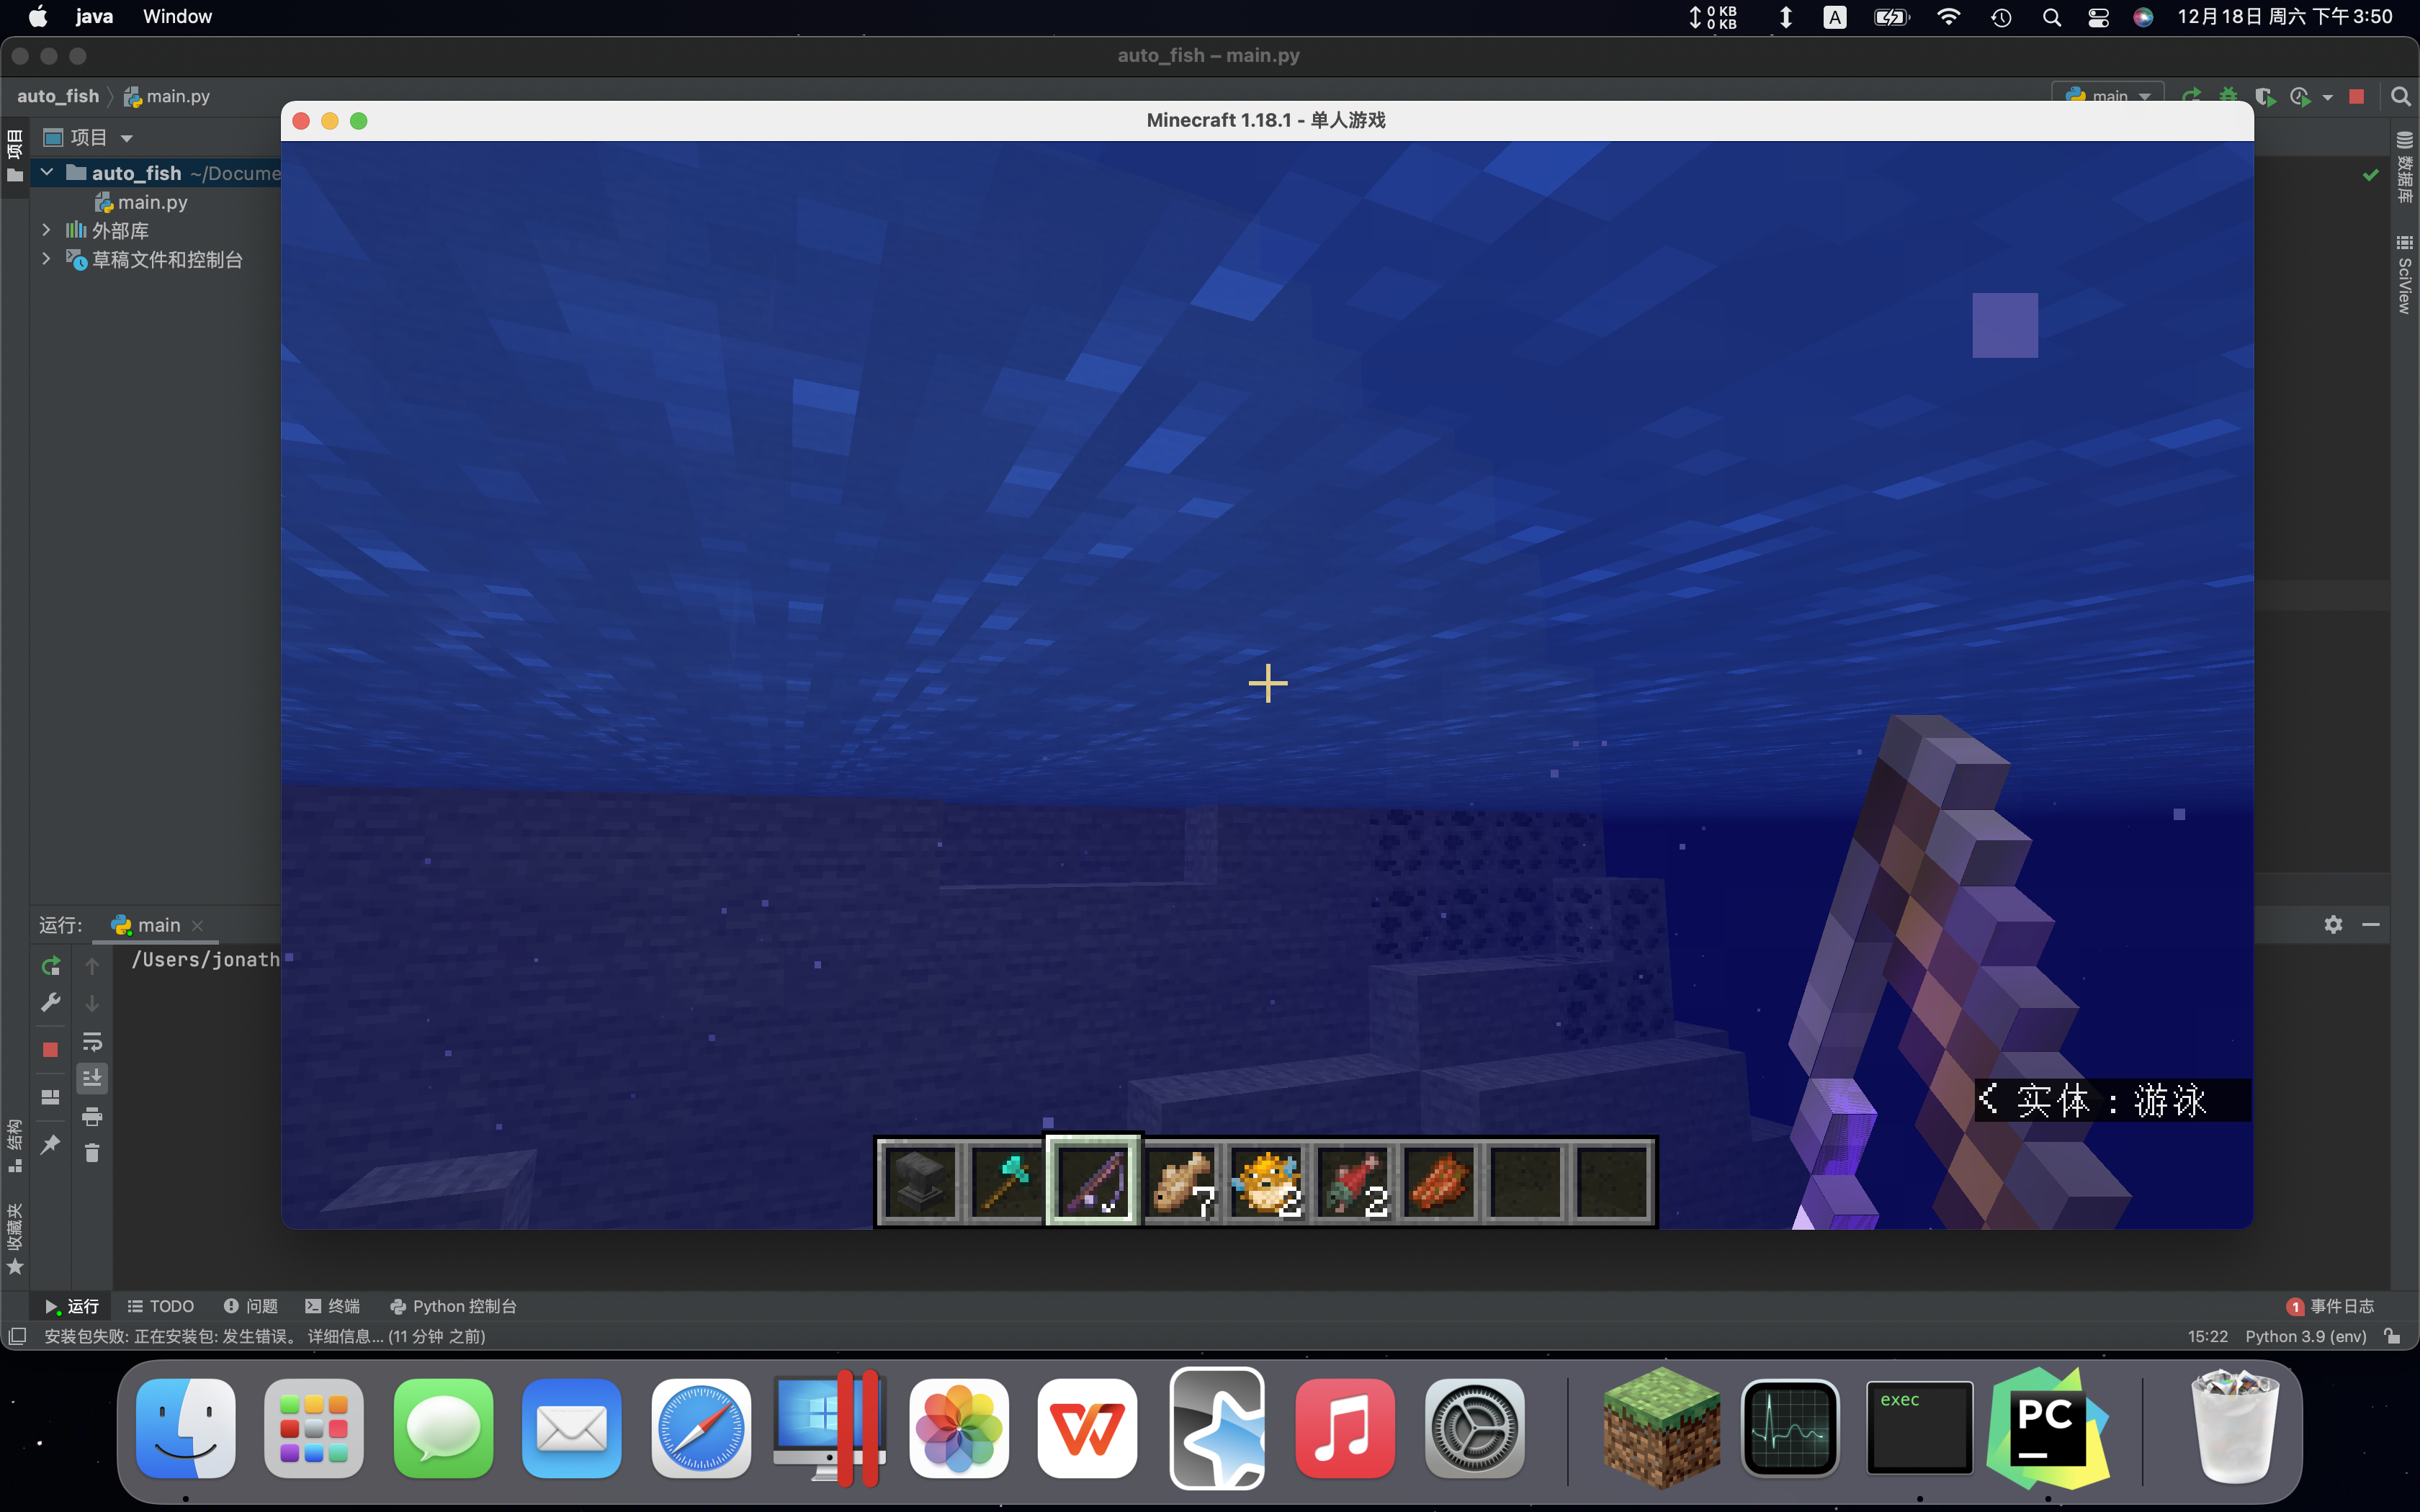inf: (1974, 1077, 2246, 1118)
